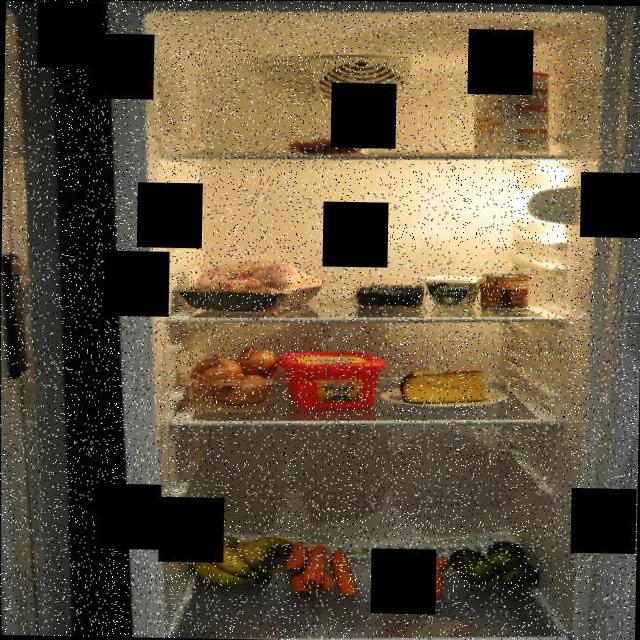Carne pollo: (176, 254, 326, 314)
Cebolla: (186, 342, 278, 408)
Gambas/Langostinos: (288, 136, 369, 156)
Mantequilla: (277, 348, 388, 414)
Plátano: (196, 532, 292, 588)
Queso: (396, 365, 492, 408)
Zanahoria: (282, 540, 364, 601), (394, 550, 452, 602)
